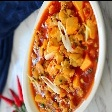mapodoufu: (26, 0, 98, 112)
